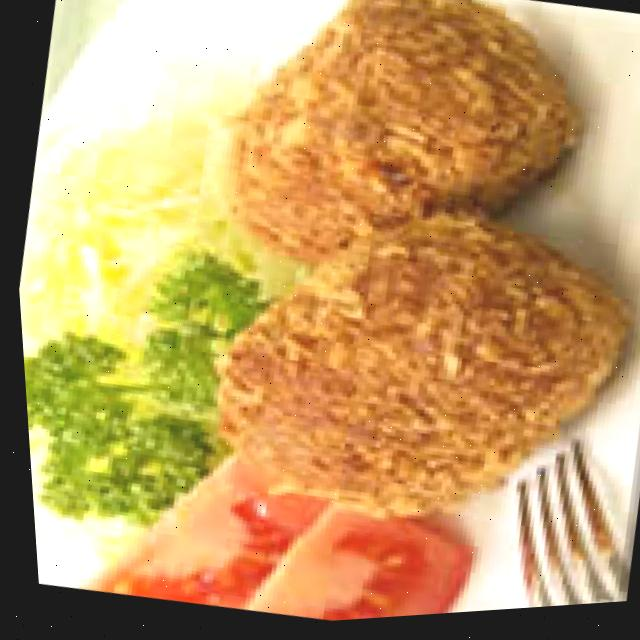炸货点心: (149, 0, 640, 563)
